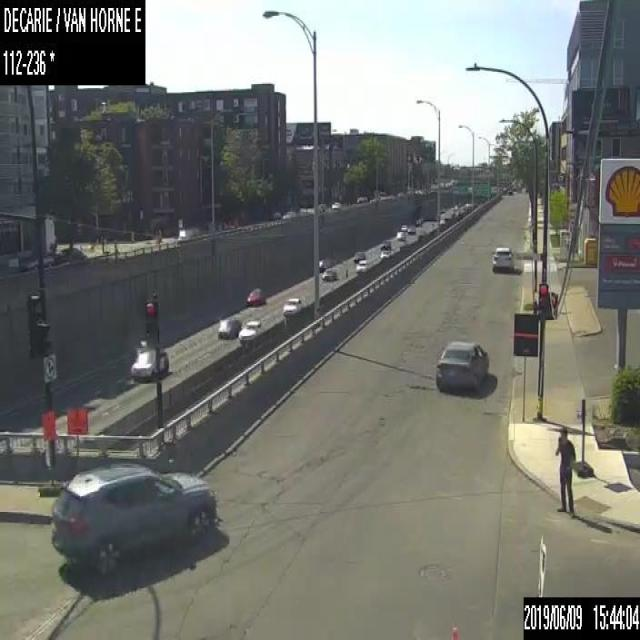construction: (39, 404, 57, 494), (66, 404, 88, 477), (573, 398, 593, 477), (449, 625, 456, 639)
pedestrian: (554, 425, 576, 519)
vehicle: (49, 458, 218, 574), (435, 337, 489, 396), (130, 345, 168, 380), (491, 246, 514, 274), (51, 245, 86, 263), (18, 252, 52, 270), (215, 316, 241, 338), (237, 319, 263, 341), (282, 295, 304, 316), (245, 287, 265, 305), (322, 266, 335, 282), (355, 259, 368, 273), (353, 250, 365, 262), (379, 238, 391, 250), (379, 249, 393, 259), (282, 210, 295, 219), (319, 256, 326, 271), (396, 230, 406, 240), (407, 224, 415, 234), (331, 201, 340, 208), (399, 223, 407, 230), (415, 218, 421, 225)
